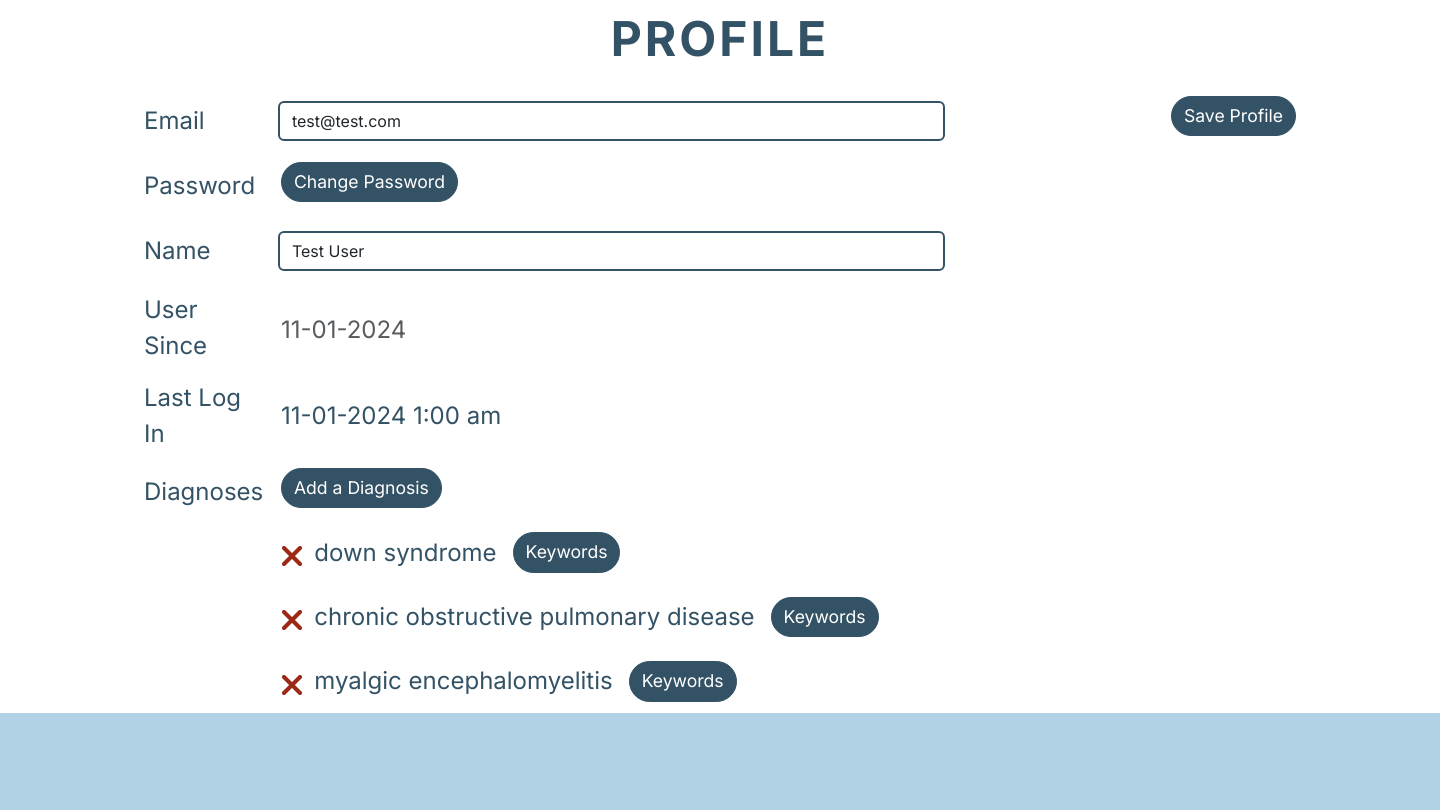
displays an error from the api on profile update
This screenshot has width=1440, height=810.
Replace the text in the field labelled "Email" with "test1@test.com" at (612,121), box x1=278 y1=101 x2=945 y2=141
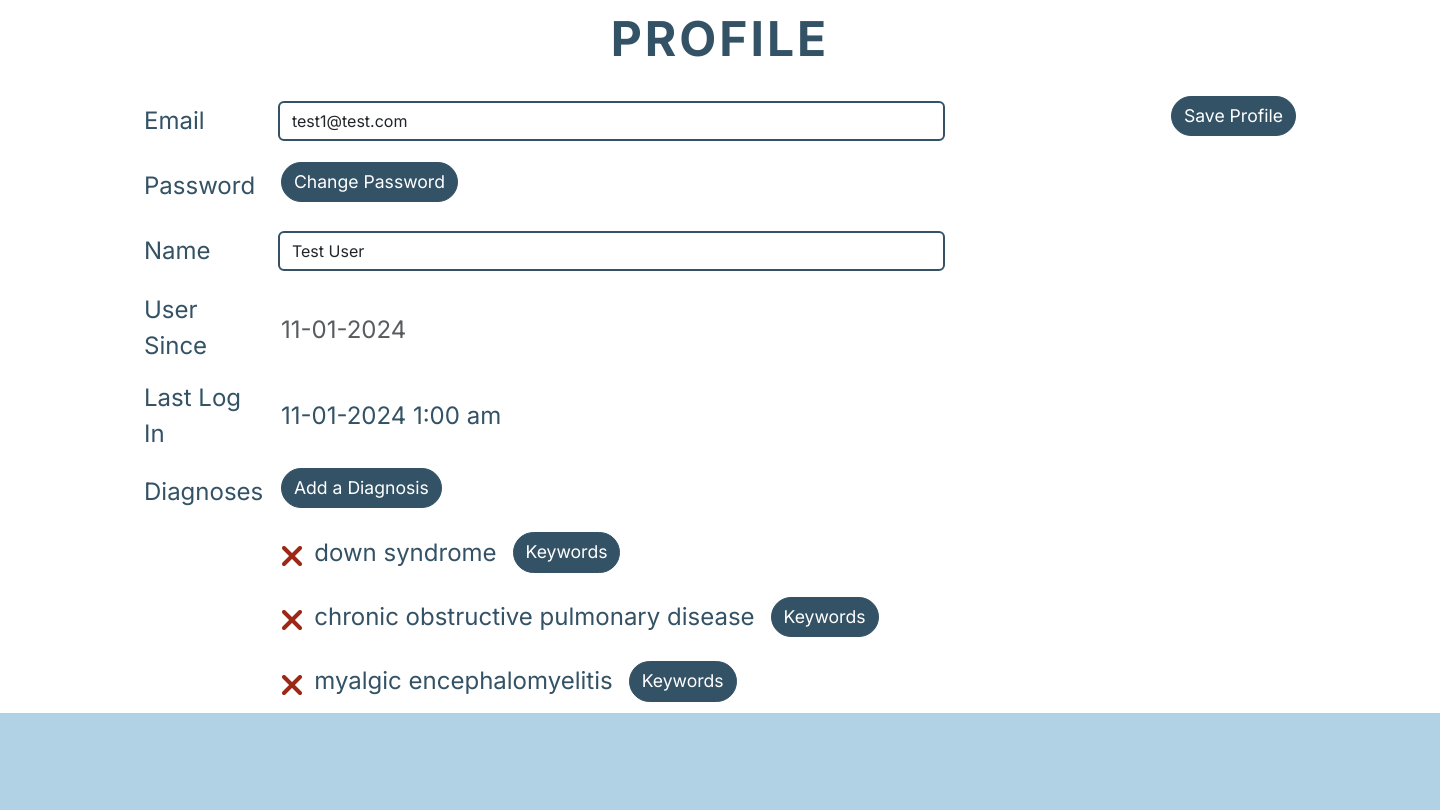
Click the button "Save Profile" at (1233,116), box x1=1171 y1=96 x2=1296 y2=136
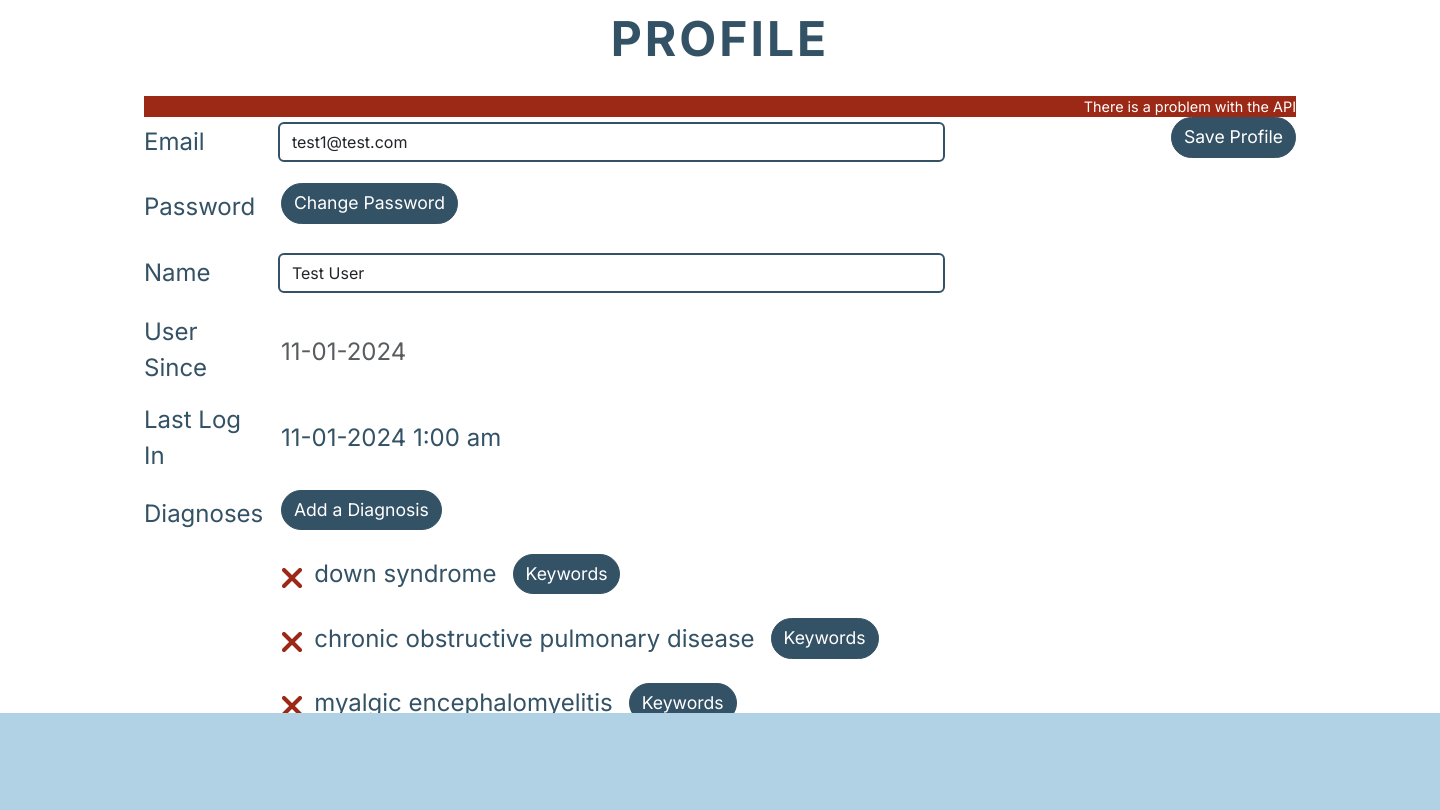
Expected: the text "There is a problem with the API" is shown, x1=144 y1=96 x2=1296 y2=117
